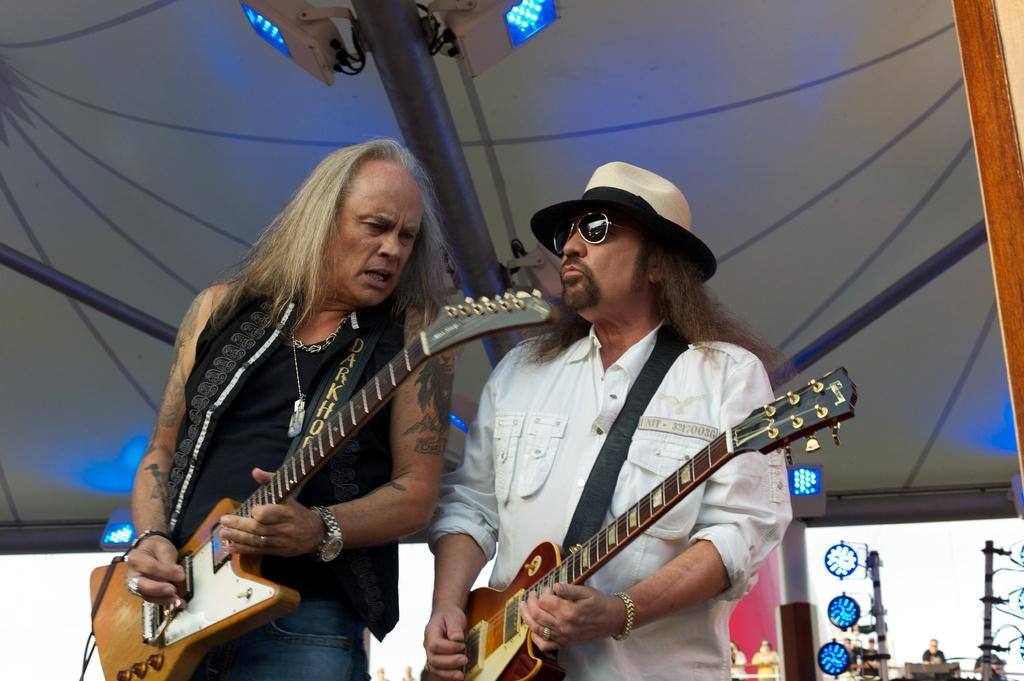Hat: (534, 163, 718, 285)
